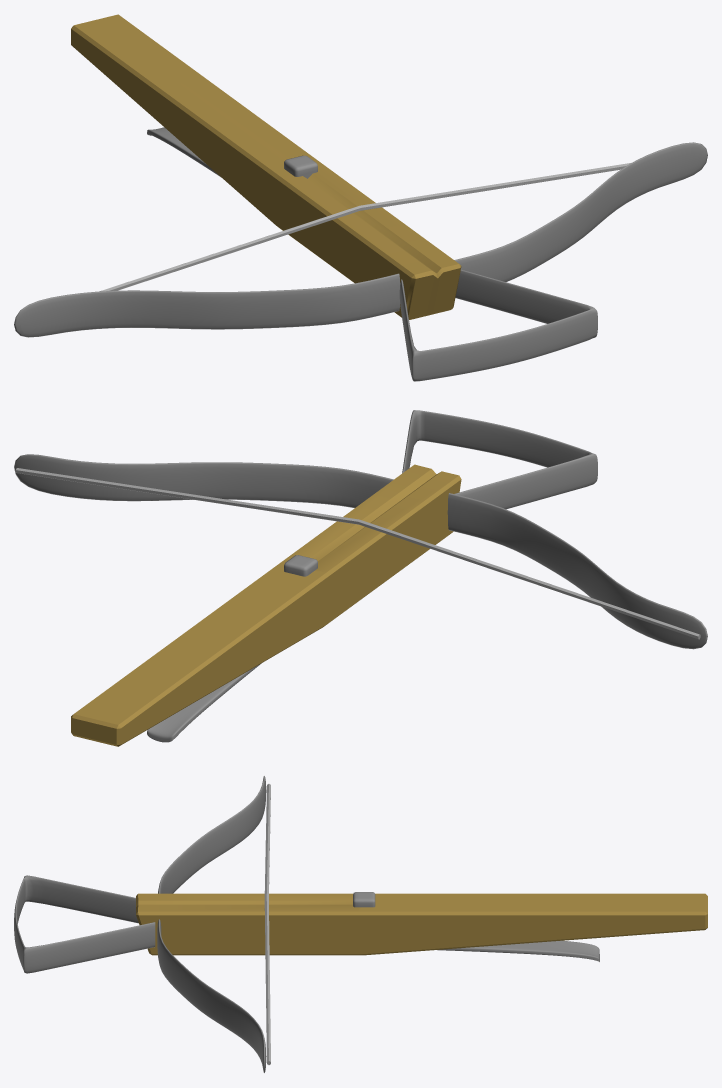
Rendered from crossbow_unloaded.fbx.
3 renders of one model, top to bottom at view 1: azimuth 30°, elevation 25°; view 2: azimuth 150°, elevation 25°; view 3: azimuth 270°, elevation 25°, orthographic. The views are drawn at different scales.
Parts seen in each view (by area): view 1: pCube1, pCube4, pCube3, pCylinder1, pCube2, pCube5; view 2: pCube1, pCube4, pCube3, pCylinder1, pCube2, pCube5; view 3: pCube1, pCube4, pCube3, pCube2, pCylinder1.
Boxes of the visible parts, x1,y1,x2,y2 form: pCube1: (71, 14, 461, 319); pCube4: (14, 142, 707, 337); pCube3: (399, 269, 597, 381); pCylinder1: (99, 162, 631, 291); pCube2: (147, 127, 220, 176); pCube5: (284, 155, 317, 178); pCube1: (71, 464, 461, 746); pCube4: (14, 454, 707, 649); pCube3: (402, 410, 597, 509); pCylinder1: (15, 468, 700, 639); pCube2: (147, 663, 261, 742); pCube5: (284, 555, 317, 576); pCube1: (136, 893, 707, 955); pCube4: (157, 776, 266, 1072); pCube3: (14, 875, 155, 973); pCube2: (437, 940, 599, 961); pCylinder1: (264, 784, 270, 1064).
Bounding box in the file's own units: 13.88 × 1.47 × 14.45.
